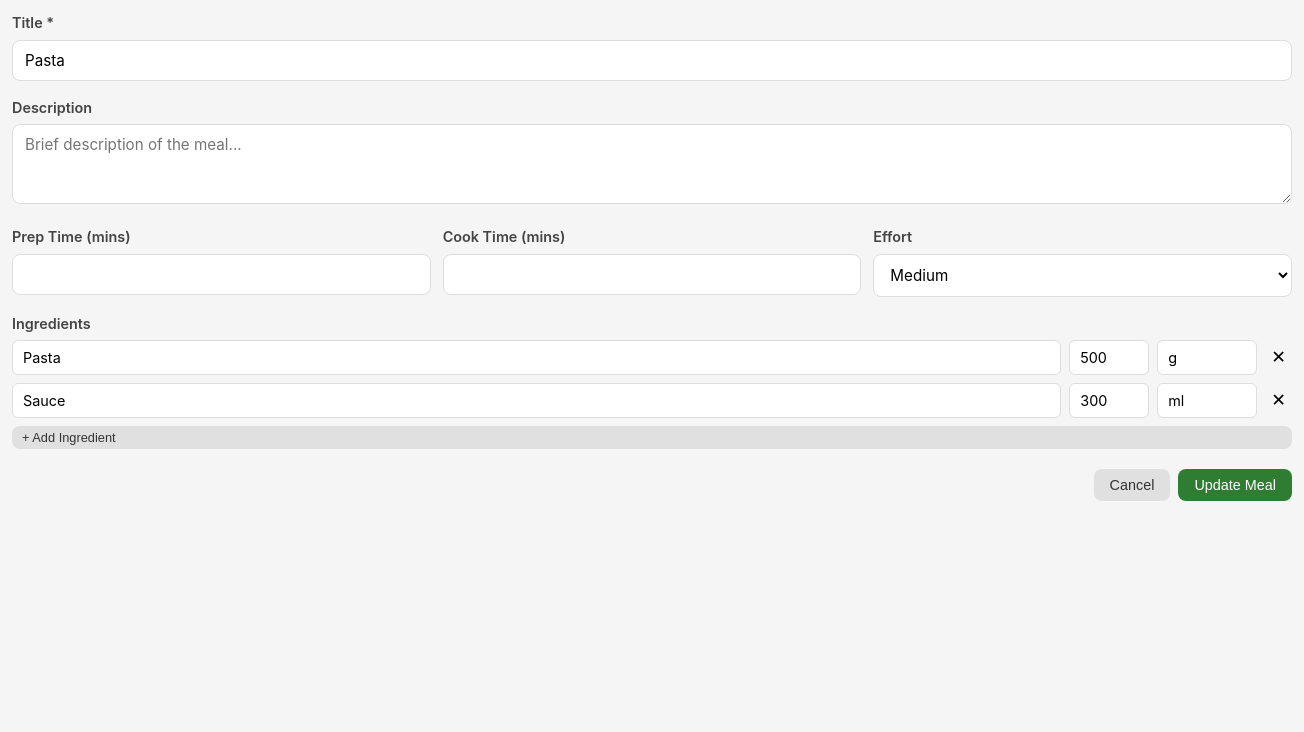
Test: MealForm › removes ingredient row when clicking remove
Click the 1st button titled "Remove" at (1279, 358), box [1265, 341, 1292, 374]
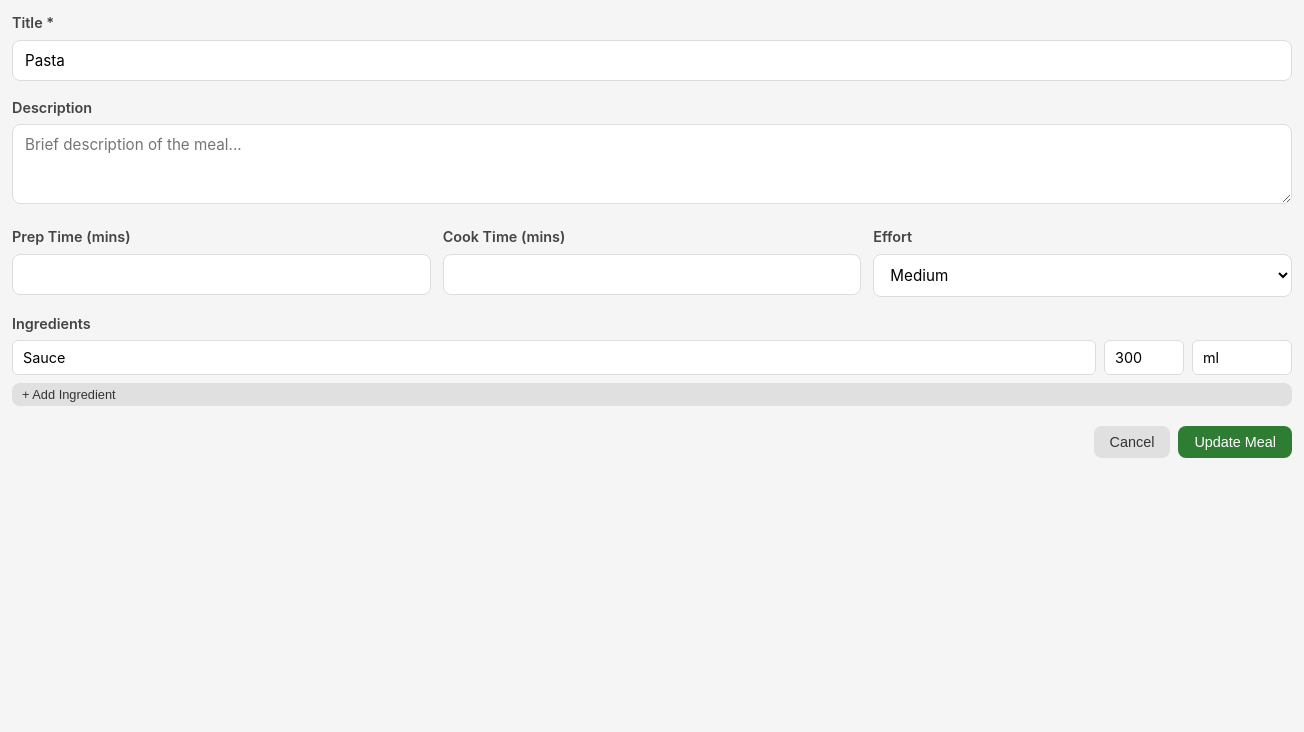
Now the number of fields with placeholder "Ingredient name" is 1, box [12, 340, 1096, 375]
